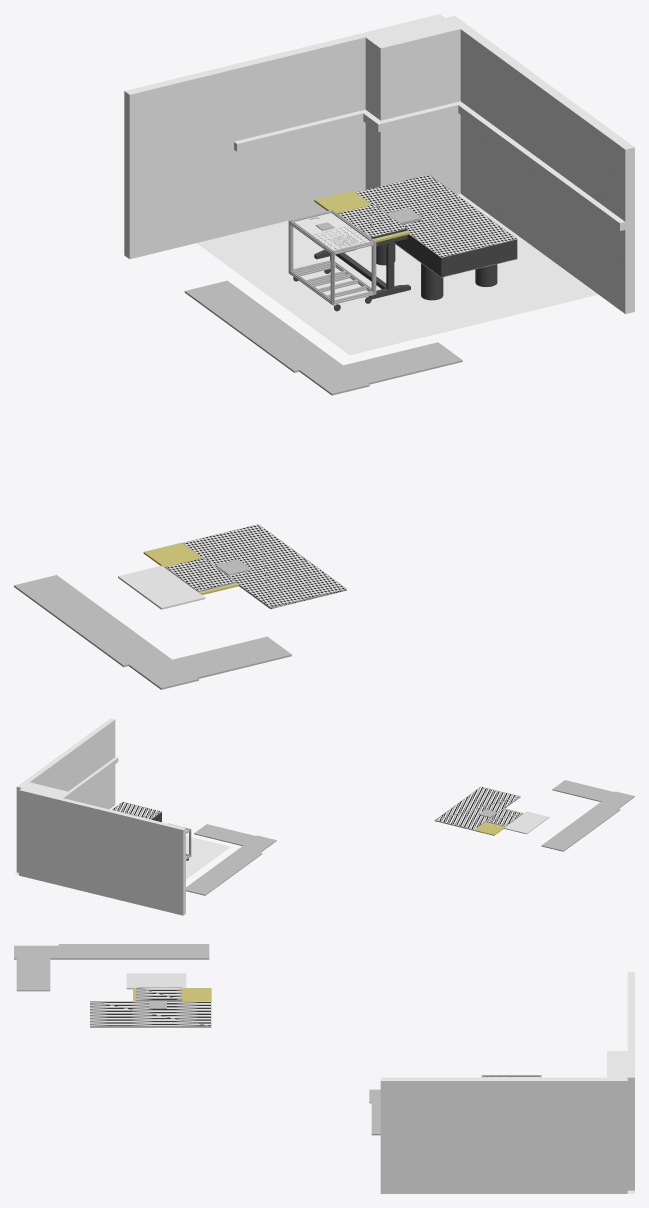
File: Lab(3).dae
3 views of the same model, one above another, from view 1: azimuth 30°, elevation 25°; view 2: azimuth 150°, elevation 25°; view 3: azimuth 270°, elevation 25° (orthographic). The views are drawn at different scales.
Visible parts, largest first — view 1: Mesh59_Model, Mesh9_Group9_Model, Mesh19_Group20_Group16_Model, Mesh4_Group4_Model, Mesh7_Group7_Model, Mesh3_Group3_Model, Mesh8_Group8_Model, Mesh2_Group2_Model, Mesh10_Group10_Model, Mesh21_Group22_Group16_Model, Mesh14_Group14_Model, Mesh57_Group58_Group57_Group30_Model (+6 smaller); view 2: Mesh59_Model, Mesh9_Group9_Model, Mesh4_Group4_Model, Mesh7_Group7_Model, Mesh10_Group10_Model, Mesh2_Group2_Model, Mesh8_Group8_Model, Mesh3_Group3_Model, Mesh14_Group14_Model, Mesh19_Group20_Group16_Model, Mesh13_Group13_Model, Mesh11_Group11_Model (+2 smaller); view 3: Mesh59_Model, Mesh9_Group9_Model, Mesh10_Group10_Model, Mesh8_Group8_Model, Mesh7_Group7_Model, Mesh14_Group14_Model, Mesh13_Group13_Model, Mesh11_Group11_Model, Mesh6_Group6_Model.
Boxes of the visible parts, box(x1,y1,x2,y2) form: Mesh59_Model: box(124, 14, 634, 355); Mesh9_Group9_Model: box(182, 524, 346, 609); Mesh19_Group20_Group16_Model: box(355, 174, 517, 257); Mesh4_Group4_Model: box(343, 342, 462, 384); Mesh7_Group7_Model: box(173, 636, 291, 678); Mesh3_Group3_Model: box(239, 321, 336, 372); Mesh8_Group8_Model: box(68, 615, 165, 667); Mesh2_Group2_Model: box(184, 280, 281, 332); Mesh10_Group10_Model: box(14, 575, 110, 626); Mesh21_Group22_Group16_Model: box(394, 234, 517, 277); Mesh14_Group14_Model: box(118, 565, 205, 609); Mesh57_Group58_Group57_Group30_Model: box(295, 213, 370, 250); Mesh59_Model: box(14, 718, 230, 915); Mesh9_Group9_Model: box(434, 786, 520, 830); Mesh4_Group4_Model: box(194, 824, 255, 845); Mesh7_Group7_Model: box(552, 780, 613, 801); Mesh10_Group10_Model: box(541, 824, 591, 851); Mesh2_Group2_Model: box(186, 869, 233, 895); Mesh8_Group8_Model: box(570, 804, 620, 830); Mesh3_Group3_Model: box(212, 848, 262, 874); Mesh14_Group14_Model: box(504, 811, 549, 834); Mesh19_Group20_Group16_Model: box(112, 802, 161, 819); Mesh13_Group13_Model: box(485, 809, 522, 826); Mesh11_Group11_Model: box(598, 791, 634, 808); Mesh59_Model: box(380, 972, 634, 1193); Mesh9_Group9_Model: box(90, 1001, 211, 1027); Mesh10_Group10_Model: box(134, 944, 209, 959); Mesh8_Group8_Model: box(58, 944, 133, 959); Mesh7_Group7_Model: box(16, 958, 50, 991); Mesh14_Group14_Model: box(126, 973, 186, 989); Mesh13_Group13_Model: box(136, 987, 181, 1000); Mesh11_Group11_Model: box(14, 945, 58, 959); Mesh6_Group6_Model: box(133, 988, 211, 1001).
Bounding box in the file's own units: 9.72 × 10.22 × 2.07.
